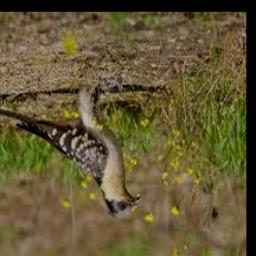Cuckoo: (0, 85, 141, 219)
